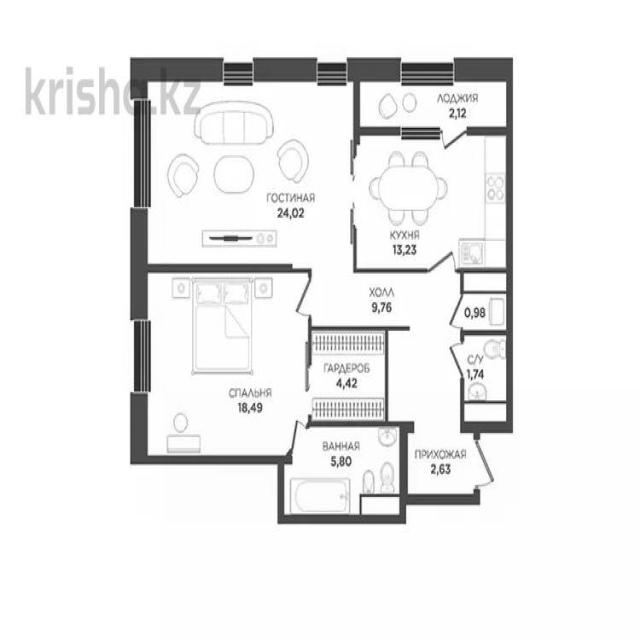bathroom: (284, 429, 402, 519), (464, 335, 508, 406)
hallway: (311, 276, 458, 327), (389, 334, 457, 427), (410, 436, 492, 494)
kitchen: (356, 135, 511, 271), (357, 68, 508, 128)
living_room: (143, 69, 352, 268), (143, 278, 283, 454)
other: (310, 335, 387, 421)
